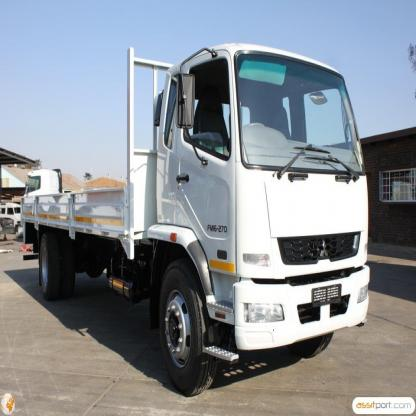truck: (21, 43, 373, 392)
